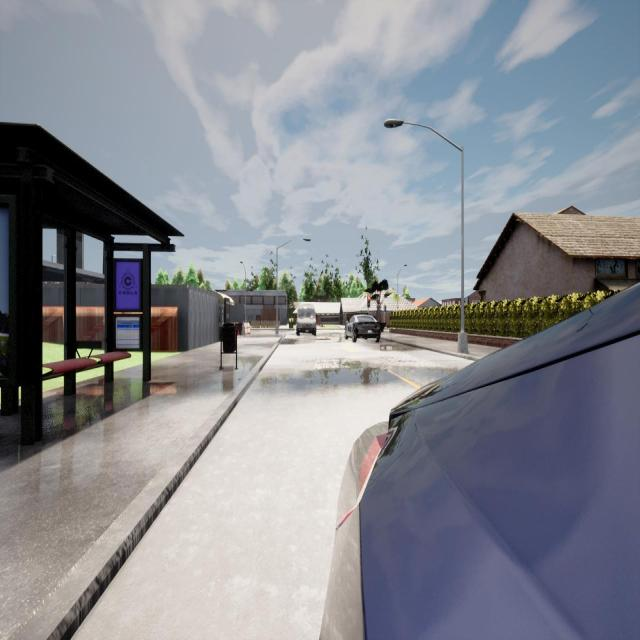Vehicle: (320, 283, 640, 640), (344, 314, 382, 342), (295, 306, 317, 336)
traffic_light: (367, 295, 371, 308)
